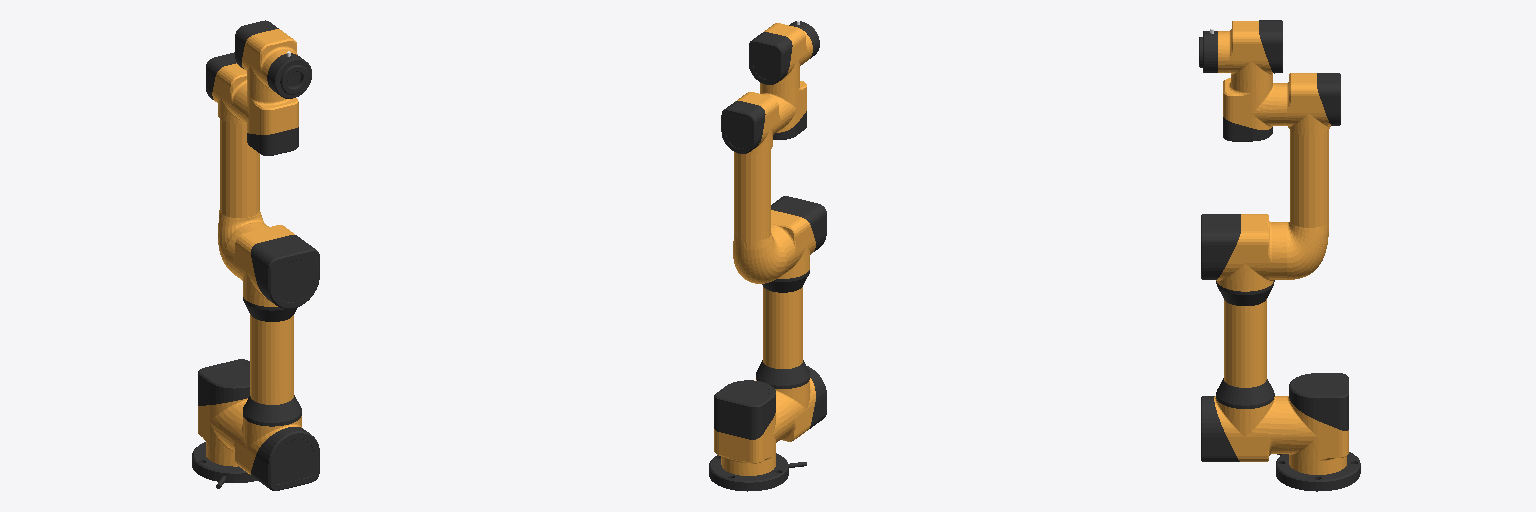
URDF robot description (our_model):
<robot
  name="our_model">
  <link
    name="base">
    <inertial>
      <origin
        xyz="-0.000455135502731659 -0.000455135502731657 0.0118840855576371"
        rpy="0 0 0" />
      <mass
        value="0.548361856091445" />
      <inertia
        ixx="0.00103939840249858"
        ixy="1.9001801324447E-05"
        ixz="4.70228093397328E-07"
        iyy="0.00103939840249859"
        iyz="4.70228093397214E-07"
        izz="0.00202689297988445" />
    </inertial>
    <visual>
      <origin
        xyz="0 0 0"
        rpy="0 0 0" />
      <geometry>
        <mesh
          filename="package://our_model/meshes/base.STL" />
      </geometry>
      <material
        name="">
        <color
          rgba="0.250980392156863 0.250980392156863 0.250980392156863 1" />
      </material>
    </visual>
    <collision>
      <origin
        xyz="0 0 0"
        rpy="0 0 0" />
      <geometry>
        <mesh
          filename="package://our_model/meshes/base.STL" />
      </geometry>
    </collision>
  </link>
  

<link    name="link1">
    <inertial>
      <origin
        xyz="-4.34575289457643E-10 -0.00427280463172681 0.0636042623695707"
        rpy="0 0 0" />
      <mass
        value="1.56830518389083" />
      <inertia
        ixx="0.00368739305366179"
        ixy="2.73261643612524E-10"
        ixz="-5.78247861811098E-10"
        iyy="0.00349338824351223"
        iyz="-0.000375803896995025"
        izz="0.00335047196823213" />
    </inertial>
    <visual>
      <origin
        xyz="0 0 0"
        rpy="0 0 0" />
      <geometry>
        <mesh
          filename="package://our_model/meshes/link1.STL" />
      </geometry>
      <material
        name="">
        <color
          rgba="1 0.717647058823529 0.329411764705882 1" />
      </material>
    </visual>
    <collision>
      <origin
        xyz="0 0 0"
        rpy="0 0 0" />
      <geometry>
        <mesh
          filename="package://our_model/meshes/link1.STL" />
      </geometry>
    </collision>
  </link>
  

<joint    name="joint1"
    type="revolute">
    <origin
      xyz="0 0 0.024"
      rpy="0 0 0" />
    <parent
      link="base" />
    <child
      link="link1" />
    <axis
      xyz="0 0 -1" />
    <limit
      lower="-1.57"
      upper="1.57"
      effort="0"
      velocity="0" />
  </joint>
 

 <link
    name="link1_1">
    <inertial>
      <origin
        xyz="2.22504903313166E-09 0.0146216613001546 0.143892593833407"
        rpy="0 0 0" />
      <mass
        value="0.702288103180474" />
      <inertia
        ixx="0.000911131917179615"
        ixy="-8.48815303351485E-11"
        ixz="-2.48951750257593E-11"
        iyy="0.000984724868719397"
        iyz="-0.000147211044113476"
        izz="0.00139570386160195" />
    </inertial>
    <visual>
      <origin
        xyz="0 0 0"
        rpy="0 0 0" />
      <geometry>
        <mesh
          filename="package://our_model/meshes/link1_1.STL" />
      </geometry>
      <material
        name="">
        <color
           rgba="0.250980392156863 0.250980392156863 0.250980392156863 1" />
      </material>
    </visual>
    <collision>
      <origin
        xyz="0 0 0"
        rpy="0 0 0" />
      <geometry>
        <mesh
          filename="package://our_model/meshes/link1_1.STL" />
      </geometry>
    </collision>
  </link>
  <joint
    name="joint1_1"
    type="fixed">
    <origin
      xyz="0 0 0"
      rpy="0 0 0" />
    <parent
      link="link1" />
    <child
      link="link1_1" />
    <axis
      xyz="0 0 0" />
  </joint>
  <link
    name="link2">
    <inertial>
      <origin
        xyz="4.34575280761671E-10 0.0636042623695707 -0.00427280463172687"
        rpy="0 0 0" />
      <mass
        value="1.56830518389083" />
      <inertia
        ixx="0.00368739305366178"
        ixy="5.78247861100889E-10"
        ixz="-2.73261644286462E-10"
        iyy="0.00335047196823213"
        iyz="-0.000375803896995024"
        izz="0.00349338824351223" />
    </inertial>
    <visual>
      <origin
        xyz="0 0 0"
        rpy="0 0 0" />
      <geometry>
        <mesh
          filename="package://our_model/meshes/link2.STL" />
      </geometry>
      <material
        name="">
        <color
          rgba="1 0.717647058823529 0.329411764705882 1" />
      </material>
    </visual>
    <collision>
      <origin
        xyz="0 0 0"
        rpy="0 0 0" />
      <geometry>
        <mesh
          filename="package://our_model/meshes/link2.STL" />
      </geometry>
    </collision>
  </link>
  

<joint    name="joint2"
    type="revolute">
    <origin
      xyz="0 -0.063 0.084"
      rpy="3.1416 0 0" />
    <parent
      link="link1" />
    <child
      link="link2" />
    <axis
      xyz="0 -1 0" />
    <limit
      lower="-1.57"
      upper="1.57"
      effort="0"
      velocity="0" />
  </joint>
  

<link
    name="link2_1">
    <inertial>
      <origin
        xyz="-2.22504904035343E-09 0.143892593833407 0.0146216613001545"
        rpy="0 0 0" />
      <mass
        value="0.702288103180474" />
      <inertia
        ixx="0.000911131917179614"
        ixy="2.48951750878986E-11"
        ixz="8.48815299759036E-11"
        iyy="0.00139570386160195"
        iyz="-0.000147211044113476"
        izz="0.000984724868719396" />
    </inertial>
    <visual>
      <origin
        xyz="0 0 0"
        rpy="0 0 0" />
      <geometry>
        <mesh
          filename="package://our_model/meshes/link2_1.STL" />
      </geometry>
      <material
        name="">
        <color
          rgba="0.250980392156863 0.250980392156863 0.250980392156863 1" />
      </material>
    </visual>
    <collision>
      <origin
        xyz="0 0 0"
        rpy="0 0 0" />
      <geometry>
        <mesh
          filename="package://our_model/meshes/link2_1.STL" />
      </geometry>
    </collision>
  </link>
  <joint
    name="joint2_1"
    type="fixed">
    <origin
      xyz="0 0 0"
      rpy="0 0 0" />
    <parent
      link="link2" />
    <child
      link="link2_1" />
    <axis
      xyz="0 0 0" />
  </joint>


  <link
    name="link3">
    <inertial>
      <origin
        xyz="3.24930319308439E-16 2.4980018054066E-16 0.0179214050974561"
        rpy="0 0 0" />
      <mass
        value="0.355578779763243" />
      <inertia
        ixx="0.000305142481418073"
        ixy="1.87100316056416E-21"
        ixz="-1.82363829848875E-21"
        iyy="0.000305142481418073"
        iyz="-8.90867349295862E-20"
        izz="0.000519630729599037" />
    </inertial>
    <visual>
      <origin
        xyz="0 0 0"
        rpy="0 0 0" />
      <geometry>
        <mesh
          filename="package://our_model/meshes/link3.STL" />
      </geometry>
      <material
        name="">
        <color
           rgba="0.250980392156863 0.250980392156863 0.250980392156863 1" />
      </material>
    </visual>
    <collision>
      <origin
        xyz="0 0 0"
        rpy="0 0 0" />
      <geometry>
        <mesh
          filename="package://our_model/meshes/link3.STL" />
      </geometry>
    </collision>
  </link>
 

 <joint    name="joint03"
    type="fixed">
    <origin
      xyz="0 0.084 -0.063"
      rpy="3.14159265358979 0 0" />
    <parent
      link="link2" />
    <child
      link="link3" />
    <axis
      xyz="0 0 0" />
  </joint>
  <link
    name="link4">
    <inertial>
      <origin
        xyz="3.23519848295084E-16 2.4980018054066E-16 0.0909999999999999"
        rpy="0 0 0" />
      <mass
        value="1.08193152317346" />
      <inertia
        ixx="0.00349831287898106"
        ixy="-2.05546661867043E-20"
        ixz="1.99064696341012E-20"
        iyy="0.00349831287898106"
        iyz="8.94034880829766E-19"
        izz="0.00102364246236249" />
    </inertial>
    <visual>
      <origin
        xyz="0 0 0"
        rpy="0 0 0" />
      <geometry>
        <mesh
          filename="package://our_model/meshes/link4.STL" />
      </geometry>
      <material
        name="">
        <color
          rgba="1 0.717647058823529 0.329411764705882 1" />
      </material>
    </visual>
    <collision>
      <origin
        xyz="0 0 0"
        rpy="0 0 0" />
      <geometry>
        <mesh
          filename="package://our_model/meshes/link4.STL" />
      </geometry>
    </collision>
  </link>
  

<joint    name="joint04"
    type="fixed">
    <origin
      xyz="0 0 0.04"
      rpy="0 0 0" />
    <parent
      link="link3" />
    <child
      link="link4" />
    <axis
      xyz="0 0 0" />
  </joint>
  

<link
    name="link5">
    <inertial>
      <origin
        xyz="3.28646183330689E-16 2.4980018054066E-16 0.0220785949025439"
        rpy="0 0 0" />
      <mass
        value="0.355578779763243" />
      <inertia
        ixx="0.000305142481418073"
        ixy="-1.91994134710974E-20"
        ixz="-2.07933858914544E-20"
        iyy="0.000305142481418073"
        iyz="-7.57282631998409E-20"
        izz="0.000519630729599037" />
    </inertial>
    <visual>
      <origin
        xyz="0 0 0"
        rpy="0 0 0" />
      <geometry>
        <mesh
          filename="package://our_model/meshes/link5.STL" />
      </geometry>
      <material
        name="">
        <color
          rgba="0.250980392156863 0.250980392156863 0.250980392156863 1" />
      </material>
    </visual>
    <collision>
      <origin
        xyz="0 0 0"
        rpy="0 0 0" />
      <geometry>
        <mesh
          filename="package://our_model/meshes/link5.STL" />
      </geometry>
    </collision>
  </link>
 

 <joint    name="joint05"
    type="fixed">
    <origin
      xyz="0 0 0.182"
      rpy="0 0 0" />
    <parent
      link="link4" />
    <child
      link="link5" />
    <axis
      xyz="0 0 0" />
  </joint>
  <link
    name="link6">
    <inertial>
      <origin
        xyz="-4.3458E-10 0.020396 0.058727"
        rpy="0 0 0" />
      <mass
        value="1.5683" />
      <inertia
        ixx="0.0036874"
        ixy="5.7825E-10"
        ixz="2.7326E-10"
        iyy="0.0033505"
        iyz="0.0003758"
        izz="0.0034934" />
    </inertial>
    <visual>
      <origin
        xyz="0 0 0"
        rpy="0 0 0" />
      <geometry>
        <mesh
          filename="package://our_model/meshes/link6.STL" />
      </geometry>
      <material
        name="">
        <color
          rgba="1 0.71765 0.32941 1" />
      </material>
    </visual>
    <collision>
      <origin
        xyz="0 0 0"
        rpy="0 0 0" />
      <geometry>
        <mesh
          filename="package://our_model/meshes/link6.STL" />
      </geometry>
    </collision>
  </link>
  

<joint    name="joint06"
    type="fixed">
    <origin
      xyz="0 0 0.0400000000000001"
      rpy="0 0 0" />
    <parent
      link="link5" />
    <child
      link="link6" />
    <axis
      xyz="0 0 0" />
  </joint>
  

<link
    name="link6_1">
    <inertial>
      <origin
        xyz="2.22504904716865E-09 -0.0598925938334073 0.0776216613001546"
        rpy="0 0 0" />
      <mass
        value="0.702288103180474" />
      <inertia
        ixx="0.000911131917179614"
        ixy="2.48951750583855E-11"
        ixz="-8.48815300069203E-11"
        iyy="0.00139570386160195"
        iyz="0.000147211044113476"
        izz="0.000984724868719396" />
    </inertial>
    <visual>
      <origin
        xyz="0 0 0"
        rpy="0 0 0" />
      <geometry>
        <mesh
          filename="package://our_model/meshes/link6_1.STL" />
      </geometry>
      <material
        name="">
        <color
          rgba="0.250980392156863 0.250980392156863 0.250980392156863 1" />
      </material>
    </visual>
    <collision>
      <origin
        xyz="0 0 0"
        rpy="0 0 0" />
      <geometry>
        <mesh
          filename="package://our_model/meshes/link6_1.STL" />
      </geometry>
    </collision>
  </link>
  <joint
    name="joint6_1"
    type="fixed">
    <origin
      xyz="0 0 0"
      rpy="0 0 0" />
    <parent
      link="link6" />
    <child
      link="link6_1" />
    <axis
      xyz="0 0 0" />
  </joint>
 

 <link
    name="link7">
    <inertial>
      <origin
        xyz="-1.27504249201245E-06 0.0410595253599417 0.10690144013463"
        rpy="0 0 0" />
      <mass
        value="1.78622725276023" />
      <inertia
        ixx="0.0166874558830715"
        ixy="-3.78968772260018E-09"
        ixz="-1.54218600238675E-08"
        iyy="0.0167869900171802"
        iyz="0.000890142221015558"
        izz="0.00171305367435619" />
    </inertial>
    <visual>
      <origin
        xyz="0 0 0"
        rpy="0 0 0" />
      <geometry>
        <mesh
          filename="package://our_model/meshes/link7.STL" />
      </geometry>
      <material
        name="">
        <color
          rgba="1 0.717647058823529 0.329411764705882 1" />
      </material>
    </visual>
    <collision>
      <origin
        xyz="0 0 0"
        rpy="0 0 0" />
      <geometry>
        <mesh
          filename="package://our_model/meshes/link7.STL" />
      </geometry>
    </collision>
  </link>
  

<joint    name="joint3"
    type="revolute">
    <origin
      xyz="0 0.084 0.063"
      rpy="0 0 0" />
    <parent
      link="link6" />
    <child
      link="link7" />
    <axis
      xyz="0 -1 0" />
    <limit
      lower="-1.57"
      upper="1.57"
      effort="0"
      velocity="0" />
  </joint>
  <link
    name="link8">
    <inertial>
      <origin
        xyz="4.40683949447801E-09 -0.0144992946457997 0.0503915604928873"
        rpy="0 0 0" />
      <mass
        value="0.771461023307643" />
      <inertia
        ixx="0.00120020979385909"
        ixy="5.05923629279121E-11"
        ixz="-2.88213812418033E-11"
        iyy="0.00102619353879049"
        iyz="-6.74890353073843E-05"
        izz="0.00100212767506201" />
    </inertial>
    <visual>
      <origin
        xyz="0 0 0"
        rpy="0 0 0" />
      <geometry>
        <mesh
          filename="package://our_model/meshes/link8.STL" />
      </geometry>
      <material
        name="">
        <color
          rgba="1 0.717647058823529 0.329411764705882 1" />
      </material>
    </visual>
    <collision>
      <origin
        xyz="0 0 0"
        rpy="0 0 0" />
      <geometry>
        <mesh
          filename="package://our_model/meshes/link8.STL" />
      </geometry>
    </collision>
  </link>
  <joint
    name="joint8"
    type="fixed">
    <origin
      xyz="0 0.0455000000000001 0.277999693224208"
      rpy="0 0 0" />
    <parent
      link="link7" />
    <child
      link="link8" />
    <axis
      xyz="0 0 0" />
  </joint>
  

<link
    name="link8_1">
    <inertial>
      <origin
        xyz="-1.99215418538098E-09 0.0454720700907633 0.0664623711755509"
        rpy="0 0 0" />
      <mass
        value="0.262543693353647" />
      <inertia
        ixx="0.000208154391584741"
        ixy="6.15994699749326E-12"
        ixz="1.41539464606699E-11"
        iyy="0.000318459809591541"
        iyz="-2.78228740286189E-05"
        izz="0.000179531190604736" />
    </inertial>
    <visual>
      <origin
        xyz="0 0 0"
        rpy="0 0 0" />
      <geometry>
        <mesh
          filename="package://our_model/meshes/link8_1.STL" />
      </geometry>
      <material
        name="">
        <color
           rgba="0.250980392156863 0.250980392156863 0.250980392156863 1" />
      </material>
    </visual>
    <collision>
      <origin
        xyz="0 0 0"
        rpy="0 0 0" />
      <geometry>
        <mesh
          filename="package://our_model/meshes/link8_1.STL" />
      </geometry>
    </collision>
  </link>
  <joint
    name="joint8_1"
    type="fixed">
    <origin
      xyz="0 0 0"
      rpy="0 0 0" />
    <parent
      link="link8" />
    <child
      link="link8_1" />
    <axis
      xyz="0 0 0" />
  </joint>
 

 <link
    name="link9">
    <inertial>
      <origin
        xyz="-4.40683947700495E-09 0.0503915604928872 -0.0144992946457996"
        rpy="0 0 0" />
      <mass
        value="0.771461023307645" />
      <inertia
        ixx="0.00120020979385909"
        ixy="2.88213811063134E-11"
        ixz="-5.0592362847266E-11"
        iyy="0.00100212767506202"
        iyz="-6.74890353073842E-05"
        izz="0.0010261935387905" />
    </inertial>
    <visual>
      <origin
        xyz="0 0 0"
        rpy="0 0 0" />
      <geometry>
        <mesh
          filename="package://our_model/meshes/link9.STL" />
      </geometry>
      <material
        name="">
        <color
          rgba="1 0.717647058823529 0.329411764705882 1" />
      </material>
    </visual>
    <collision>
      <origin
        xyz="0 0 0"
        rpy="0 0 0" />
      <geometry>
        <mesh
          filename="package://our_model/meshes/link9.STL" />
      </geometry>
    </collision>
  </link>
 

 <joint    name="joint4"
    type="revolute">
    <origin
      xyz="0 -0.0675 0.049"
      rpy="3.1416 0 0" />
    <parent
      link="link8" />
    <child
      link="link9" />
    <axis
      xyz="0 -1 0" />
    <limit
      lower="-1.57"
      upper="1.57"
      effort="0"
      velocity="0" />
  </joint>
  

<link
    name="link9_1">
    <inertial>
      <origin
        xyz="1.99215414363585E-09 0.0664623711755509 0.0454720700907633"
        rpy="0 0 0" />
      <mass
        value="0.262543693353647" />
      <inertia
        ixx="0.000208154391584741"
        ixy="-1.41539469236388E-11"
        ixz="-6.15994691915858E-12"
        iyy="0.000179531190604736"
        iyz="-2.7822874028619E-05"
        izz="0.000318459809591541" />
    </inertial>
    <visual>
      <origin
        xyz="0 0 0"
        rpy="0 0 0" />
      <geometry>
        <mesh
          filename="package://our_model/meshes/link9_1.STL" />
      </geometry>
      <material
        name="">
        <color
           rgba="0.250980392156863 0.250980392156863 0.250980392156863 1" />
      </material>
    </visual>
    <collision>
      <origin
        xyz="0 0 0"
        rpy="0 0 0" />
      <geometry>
        <mesh
          filename="package://our_model/meshes/link9_1.STL" />
      </geometry>
    </collision>
  </link>
  <joint
    name="joint9_1"
    type="fixed">
    <origin
      xyz="0 0 0"
      rpy="0 0 0" />
    <parent
      link="link9" />
    <child
      link="link9_1" />
    <axis
      xyz="0 0 0" />
  </joint>
 

 <link
    name="link10">
    <inertial>
      <origin
        xyz="4.40683950608536E-09 -0.0144992946457997 0.0503915604928871"
        rpy="0 0 0" />
      <mass
        value="0.771461023307645" />
      <inertia
        ixx="0.00120020979385909"
        ixy="5.05923632117823E-11"
        ixz="-2.88213812461274E-11"
        iyy="0.0010261935387905"
        iyz="-6.74890353073846E-05"
        izz="0.00100212767506202" />
    </inertial>
    <visual>
      <origin
        xyz="0 0 0"
        rpy="0 0 0" />
      <geometry>
        <mesh
          filename="package://our_model/meshes/link10.STL" />
      </geometry>
      <material
        name="">
        <color
          rgba="1 0.717647058823529 0.329411764705882 1" />
      </material>
    </visual>
    <collision>
      <origin
        xyz="0 0 0"
        rpy="0 0 0" />
      <geometry>
        <mesh
          filename="package://our_model/meshes/link10.STL" />
      </geometry>
    </collision>
  </link>
  

<joint    name="joint5"
    type="revolute">
    <origin
      xyz="0 0.049 -0.0675"
      rpy="3.1416 0 0" />
    <parent
      link="link9" />
    <child
      link="link10" />
    <axis
      xyz="0 0 -1" />
    <limit
      lower="-1.57"
      upper="1.57"
      effort="0"
      velocity="0" />
  </joint>
  

<link
    name="link10_1">
    <inertial>
      <origin
        xyz="-1.99215407189967E-09 0.0454720700907633 0.0664623711755509"
        rpy="0 0 0" />
      <mass
        value="0.262543693353647" />
      <inertia
        ixx="0.000208154391584741"
        ixy="6.15994678210581E-12"
        ixz="1.41539473598952E-11"
        iyy="0.000318459809591541"
        iyz="-2.78228740286189E-05"
        izz="0.000179531190604736" />
    </inertial>
    <visual>
      <origin
        xyz="0 0 0"
        rpy="0 0 0" />
      <geometry>
        <mesh
          filename="package://our_model/meshes/link10_1.STL" />
      </geometry>
      <material
        name="">
        <color
          rgba="0.250980392156863 0.250980392156863 0.250980392156863 1" />
      </material>
    </visual>
    <collision>
      <origin
        xyz="0 0 0"
        rpy="0 0 0" />
      <geometry>
        <mesh
          filename="package://our_model/meshes/link10_1.STL" />
      </geometry>
    </collision>
  </link>
  <joint
    name="joint10_1"
    type="fixed">
    <origin
      xyz="0 0 0"
      rpy="0 0 0" />
    <parent
      link="link10" />
    <child
      link="link10_1" />
    <axis
      xyz="0 0 0" />
  </joint>
  

<link
    name="link11">
    <inertial>
      <origin
        xyz="9.97325440475552E-10 0.0170291728826431 4.16791800367244E-05"
        rpy="0 0 0" />
      <mass
        value="0.195176525526982" />
      <inertia
        ixx="0.0001089660431892"
        ixy="-5.27940265885819E-13"
        ixz="-6.55655529390035E-12"
        iyy="0.000178694374578469"
        iyz="-4.09221254509395E-08"
        izz="0.000109299248241496" />
    </inertial>
    <visual>
      <origin
        xyz="0 0 0"
        rpy="0 0 0" />
      <geometry>
        <mesh
          filename="package://our_model/meshes/link11.STL" />
      </geometry>
      <material
        name="">
        <color
          rgba="0.250980392156863 0.250980392156863 0.250980392156863 1" />         
      </material>
    </visual>
    <collision>
      <origin
        xyz="0 0 0"
        rpy="0 0 0" />
      <geometry>
        <mesh
          filename="package://our_model/meshes/link11.STL" />
      </geometry>
    </collision>
  </link>
  

<joint    name="joint6"
    type="revolute">
    <origin
      xyz="0 -0.0675 0.049"
      rpy="3.1416 0 0" />
    <parent
      link="link10" />
    <child
      link="link11" />
    <axis
      xyz="0 -1 0" />
    <limit
      lower="-1.57"
      upper="1.57"
      effort="0"
      velocity="0" />
  </joint>
  <link
    name="link12">
    <inertial>
      <origin
        xyz="-9.70560652203519E-18 0.012 -0.0450000000000002"
        rpy="0 0 0" />
      <mass
        value="0.00060318578948924" />
      <inertia
        ixx="9.65097263182786E-09"
        ixy="-6.41064974728597E-25"
        ixz="-1.05169603464112E-25"
        iyy="9.65097263182786E-09"
        iyz="2.11574236138154E-25"
        izz="4.82548631591392E-09" />
    </inertial>
    <visual>
      <origin
        xyz="0 0 0"
        rpy="0 0 0" />
      <geometry>
        <mesh
          filename="package://our_model/meshes/link12.STL" />
      </geometry>
      <material
        name="">
        <color
          rgba="1 1 1 1" />
      </material>
    </visual>
    <collision>
      <origin
        xyz="0 0 0"
        rpy="0 0 0" />
      <geometry>
        <mesh
          filename="package://our_model/meshes/link12.STL" />
      </geometry>
    </collision>
  </link>
  <joint
    name="joint12"
    type="fixed">
    <origin
      xyz="0 0 0"
      rpy="0 0 0" />
    <parent
      link="link11" />
    <child
      link="link12" />
    <axis
      xyz="0 0 0" />
  </joint>
</robot>

--- What the picture shows (computed from the rendered views, not written in the file) ---
The picture shows the robot from 3 angles, left to right: view 1: azimuth 30°, elevation 25°; view 2: azimuth 150°, elevation 25°; view 3: azimuth 270°, elevation 25°; orthographic projection.
Model our_model with 19 links and 18 joints (6 revolute, 12 fixed), rooted at base, posed every joint at zero.
Visible links, largest first — view 1: link7, link6_1, link4, link2_1, link6, link9, link1_1, link10, link2, link1, link11, link8 (+6 smaller); view 2: link7, link1_1, link4, link1, link6, link8_1, link10_1, base, link2, link9, link6_1, link8 (+3 smaller); view 3: link7, link6, link4, link2, link1, link1_1, link8, link10, link9, link6_1, base, link2_1 (+6 smaller).
Link boxes in pixels (box(x1,y1,x2,y2)): link7: box(218, 119, 264, 268); link6_1: box(251, 235, 319, 308); link4: box(250, 314, 293, 404); link2_1: box(251, 427, 319, 490); link6: box(225, 223, 294, 306); link9: box(238, 84, 298, 134); link1_1: box(198, 359, 249, 405); link10: box(242, 29, 297, 91); link2: box(225, 402, 301, 474); link1: box(198, 398, 247, 466); link11: box(267, 53, 311, 98); link8: box(212, 63, 246, 123); link7: box(733, 150, 786, 283); link1_1: box(714, 380, 775, 439); link4: box(763, 287, 802, 368); link1: box(714, 401, 786, 475); link6: box(771, 210, 815, 278); link8_1: box(721, 101, 765, 153); link10_1: box(749, 32, 792, 84); base: box(709, 453, 806, 491); link2: box(756, 378, 815, 441); link9: box(760, 79, 806, 132); link6_1: box(771, 196, 826, 251); link8: box(735, 92, 785, 153); link7: box(1287, 130, 1328, 279); link6: box(1216, 214, 1286, 291); link4: box(1224, 299, 1266, 387); link2: box(1214, 396, 1286, 461); link1: box(1287, 396, 1348, 474); link1_1: box(1289, 373, 1348, 430); link8: box(1276, 73, 1330, 134); link10: box(1218, 21, 1272, 82); link9: box(1223, 76, 1275, 129); link6_1: box(1201, 214, 1240, 279); base: box(1276, 452, 1360, 491); link2_1: box(1201, 396, 1239, 461).
Bounding box of the posed robot: 0.18 × 0.326 × 0.9975 m (x, y, z).
19 mesh visuals loaded from 19 distinct referenced files (19 binary STL).
